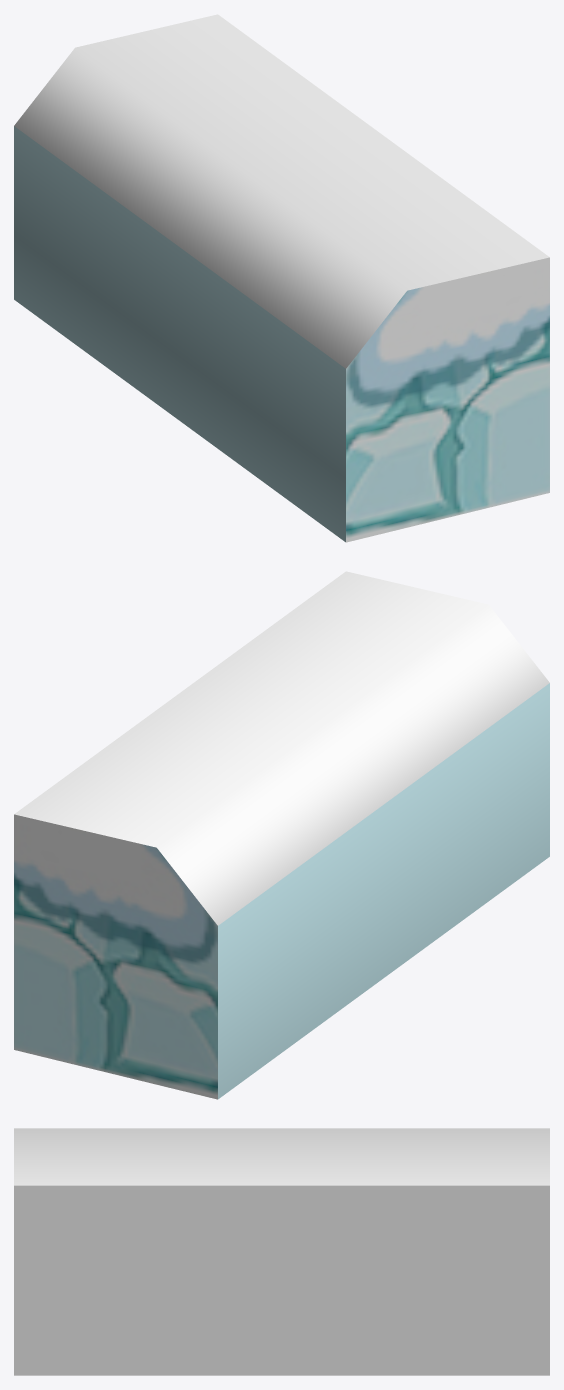
The model's file is Snow_R_2.fbx.
3 renders of one model, top to bottom at view 1: azimuth 30°, elevation 25°; view 2: azimuth 150°, elevation 25°; view 3: azimuth 270°, elevation 25°, orthographic. The views are drawn at different scales.
Parts seen in each view (by area): view 1: Snow_R_2; view 2: Snow_R_2; view 3: Snow_R_2.
Boxes of the visible parts, x1,y1,x2,y2 form: Snow_R_2: (14, 14, 549, 542); Snow_R_2: (14, 571, 549, 1099); Snow_R_2: (14, 1128, 549, 1375).
Size of the model in its own units: 1.51 by 1.68 by 4.26.
1 material, 1 textured.
